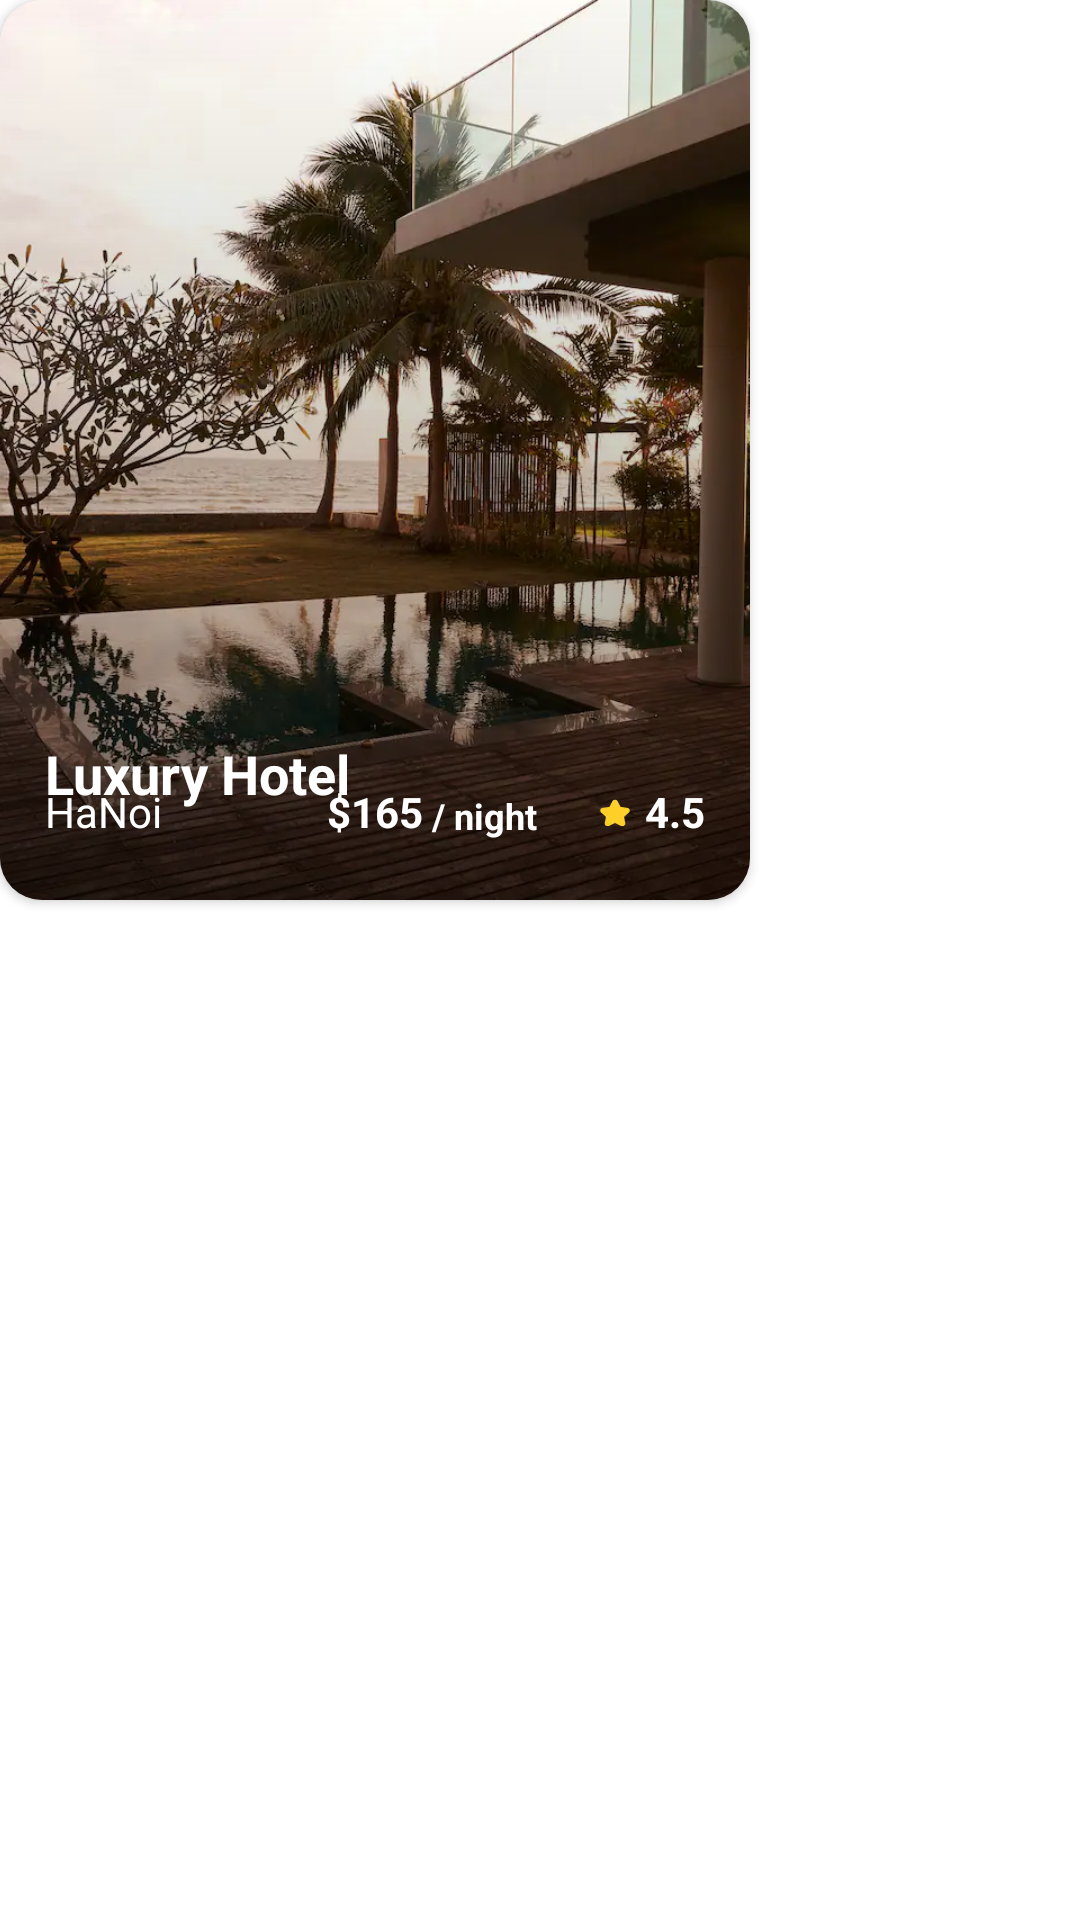

Icons on this 1080 × 1920 Android screen, each with the point to tap as [x,y]:
start rate: [615,812]
